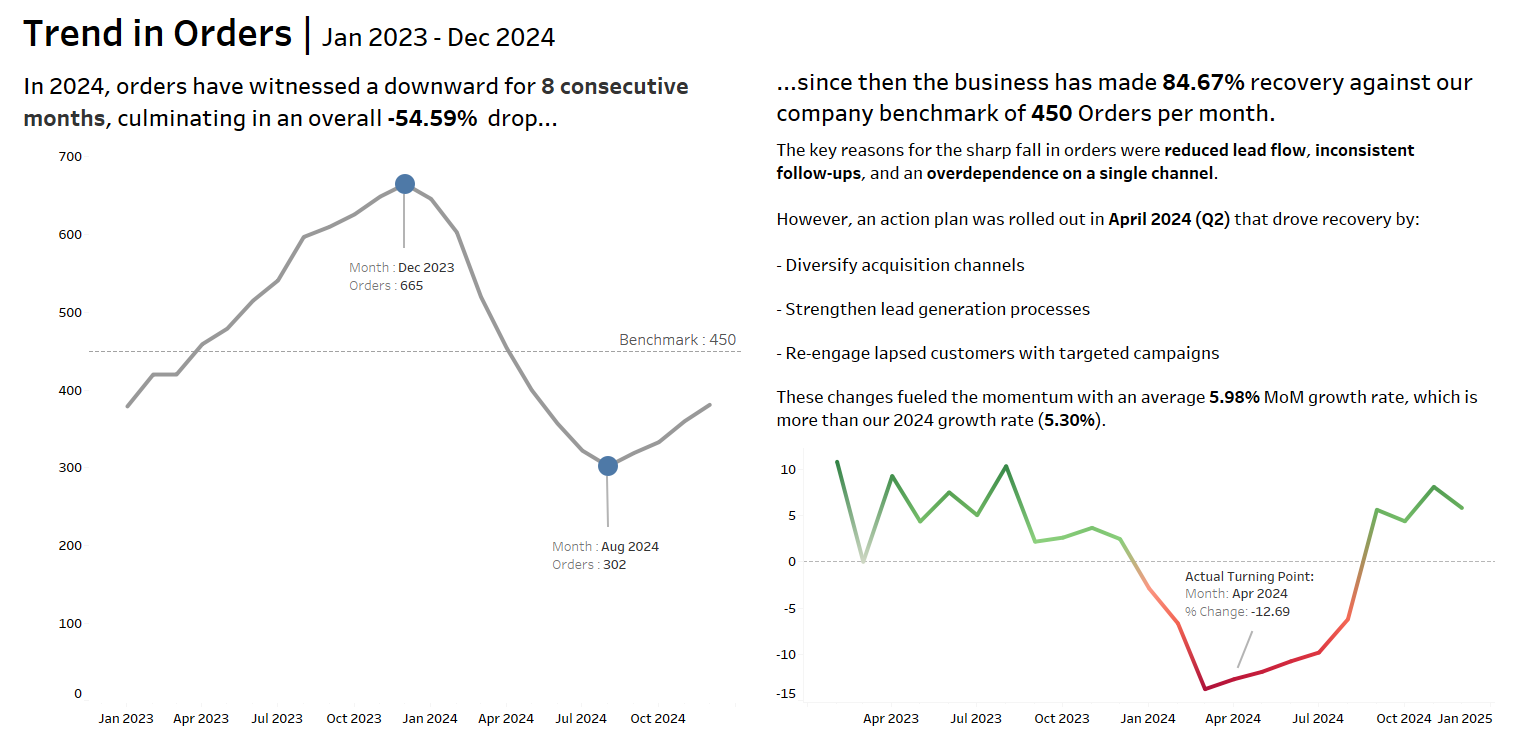

What the dashboard file says about the page in this screenshot:
{"tool":"tableau","page":{"name":"Presentation","canvas":[1500,750],"ordinal":1},"visuals":[{"type":"text","box":[8,8,1484,59]},{"type":"worksheet","title":"Fig.1","mark":"Automatic","rows":["Orders","Orders"],"cols":["Months"],"box":[8,67,730,675]},{"type":"blank","box":[738,67,24,675]},{"type":"text","box":[762,67,730,72]},{"type":"text","box":[762,139,730,311]},{"type":"worksheet","title":"Fig.2","mark":"Automatic","rows":["Calculation_872853953168257030"],"cols":["Months"],"box":[762,450,730,292]}]}

Visuals, with their boxes in screenshot pixels (x1, y1, x2, y2), scaled from the page's 1500x750 canvas onto the 1514x743 screenshot:
text: x1=8, y1=8, x2=1506, y2=66
"Fig.1" worksheet: x1=8, y1=66, x2=745, y2=735
blank: x1=745, y1=66, x2=769, y2=735
text: x1=769, y1=66, x2=1506, y2=138
text: x1=769, y1=138, x2=1506, y2=446
"Fig.2" worksheet: x1=769, y1=446, x2=1506, y2=735
